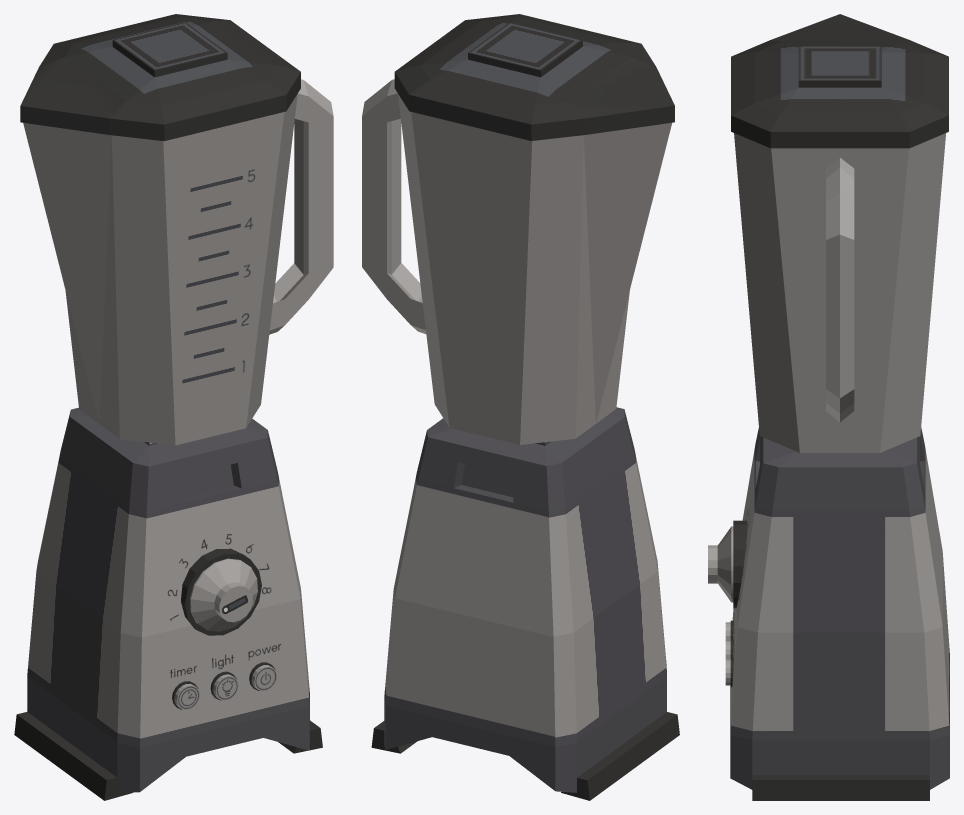
The model's file is 29ceb2f7-0fd9-49be-8e73-cc6e89b6f88e.glb.
3 renders of one model, left to right at view 1: azimuth 30°, elevation 25°; view 2: azimuth 150°, elevation 25°; view 3: azimuth 270°, elevation 25°, orthographic.
Parts seen in each view (by area): view 1: Blender, Bowl, Blender_Cap; view 2: Blender, Bowl, Blender_Cap; view 3: Blender, Bowl, Blender_Cap.
Part boxes in pixels (left/top/right/bottom): Blender: left=14, top=407, right=322, bottom=800; Bowl: left=23, top=79, right=333, bottom=445; Blender_Cap: left=20, top=14, right=300, bottom=141; Blender: left=371, top=407, right=679, bottom=800; Bowl: left=362, top=79, right=671, bottom=444; Blender_Cap: left=394, top=14, right=674, bottom=140; Blender: left=708, top=427, right=949, bottom=800; Bowl: left=734, top=133, right=945, bottom=452; Blender_Cap: left=731, top=14, right=948, bottom=148.
Bounding box in the file's own units: 161 × 344 × 110.
2 materials, 2 textured.
